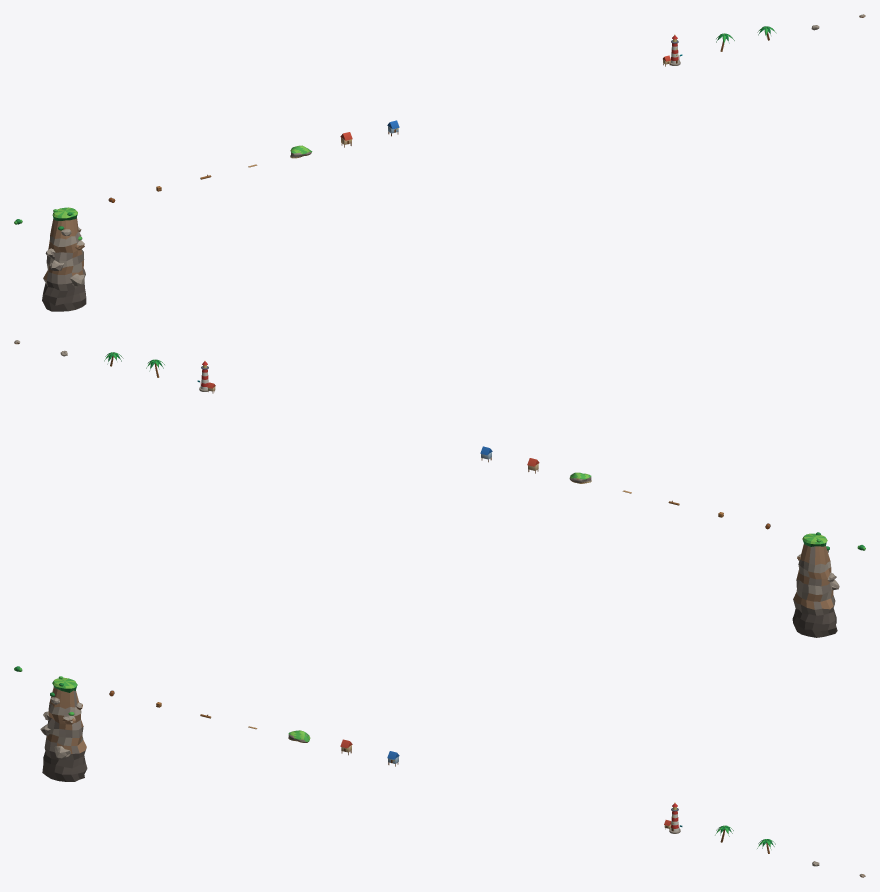
Rendered from szokoar-props.81eff3f8ad.glb.
The picture shows the model from 3 angles, top to bottom: view 1: azimuth 30°, elevation 25°; view 2: azimuth 150°, elevation 25°; view 3: azimuth 330°, elevation 25°; orthographic projection.
Visible parts, largest first — view 1: cliff_mesh; view 2: cliff_mesh; view 3: cliff_mesh.
Part boxes in pixels (x1,y1,x2,y2): cliff_mesh: (42,207,86,311); cliff_mesh: (792,532,839,637); cliff_mesh: (40,676,87,781).
Size of the model in its own units: 145 by 19.62 by 6.25.
